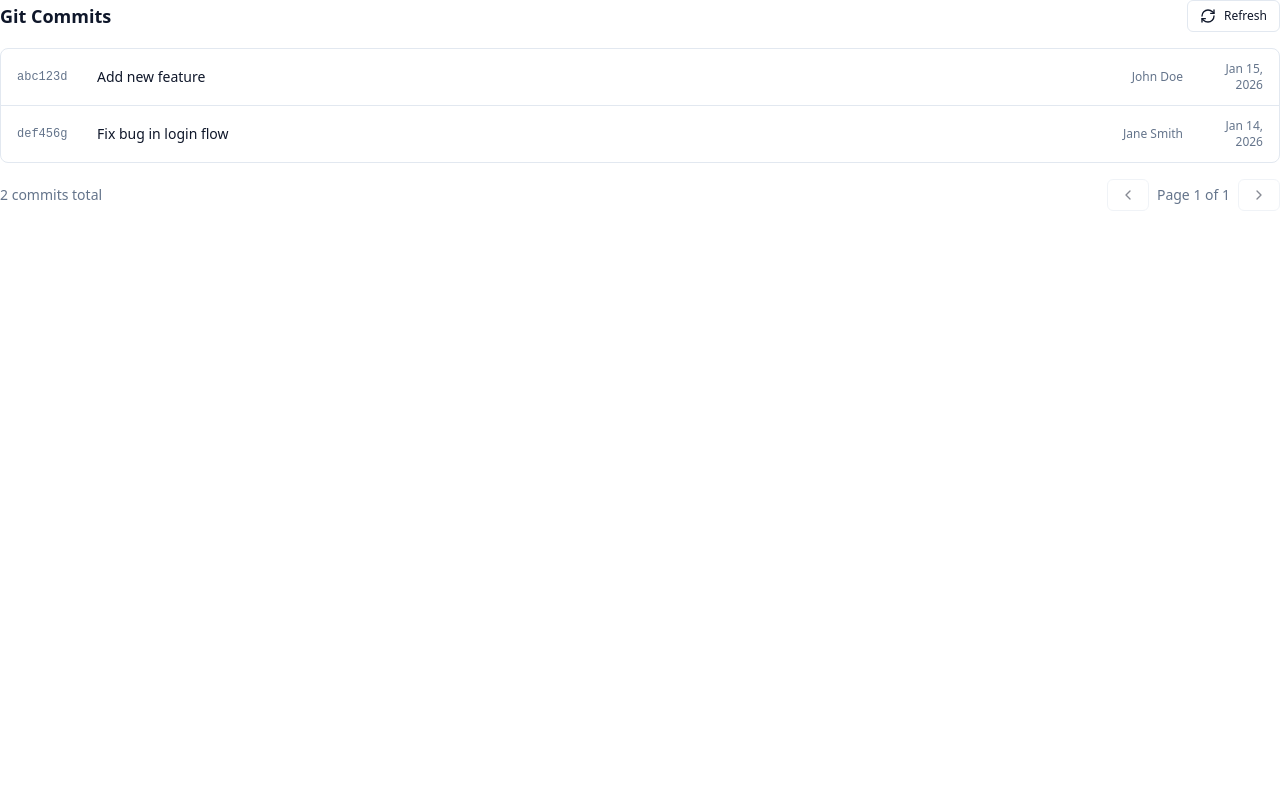
Test: GitStatusTabContent - Commit Detail Dialog › opens commit detail dialog when commit row clicked
Expected: the text "abc123d" is shown, [17, 70, 67, 84]
Click the button "Add new feature": [42, 77] box [1, 49, 1279, 106]
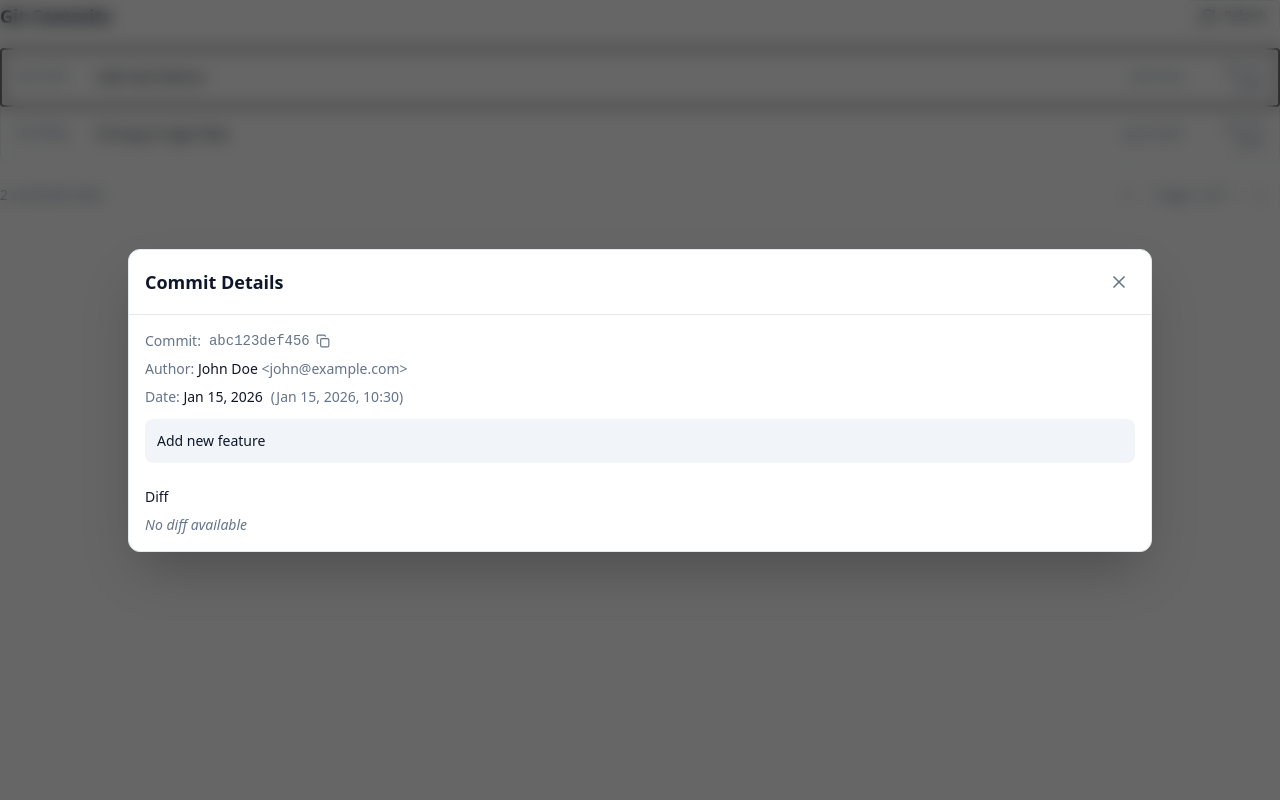
Result: the heading "Commit Details" is shown at [145, 270, 284, 294]
